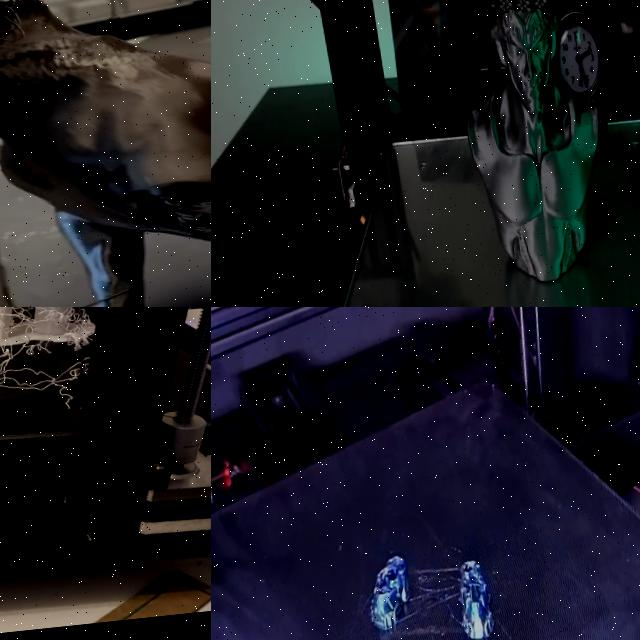spaghetti: (0, 307, 98, 458), (0, 0, 201, 67)
